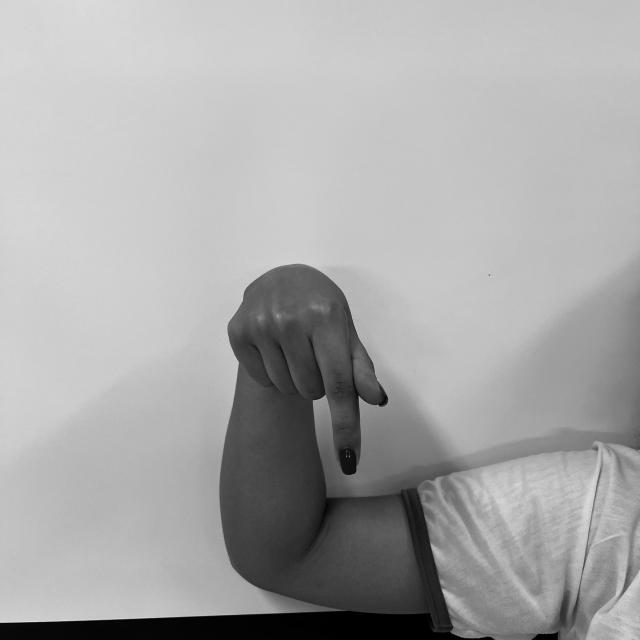Letra Q: (220, 256, 394, 479)
